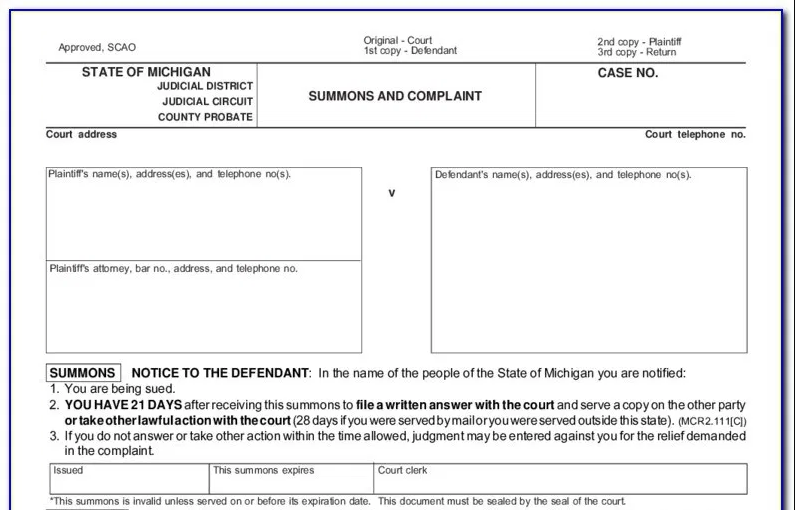textbox: (427, 164, 751, 355), (43, 164, 364, 264), (42, 258, 364, 355), (372, 458, 752, 498), (533, 60, 747, 131), (205, 457, 377, 497), (46, 458, 212, 497)
